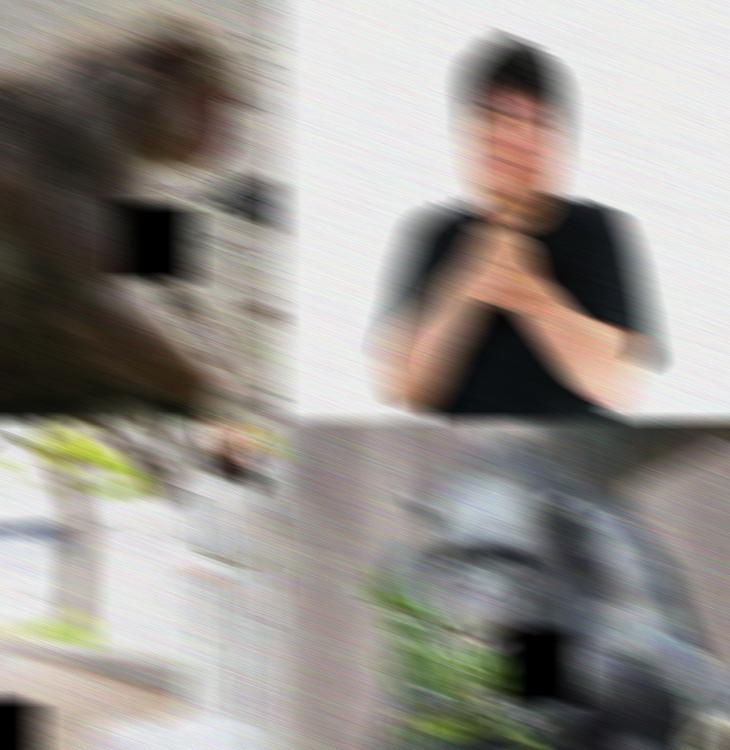Macaca fuscata: (0, 16, 248, 422)
chimpanzee: (373, 430, 730, 750)
human: (376, 30, 658, 422), (83, 418, 282, 750)
